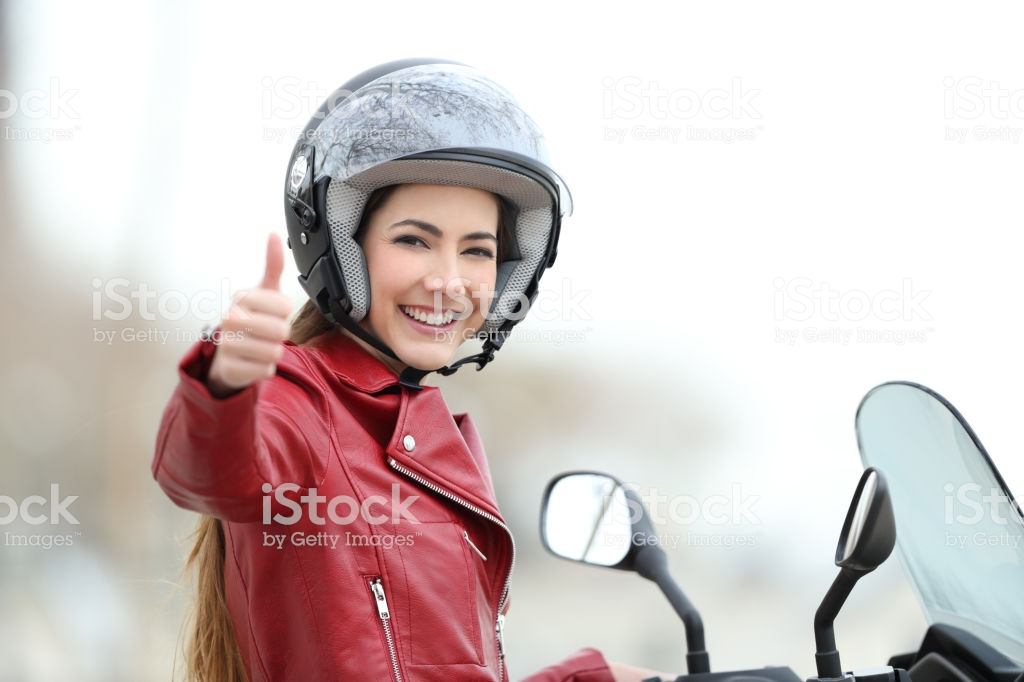helmet: (283, 74, 565, 343)
